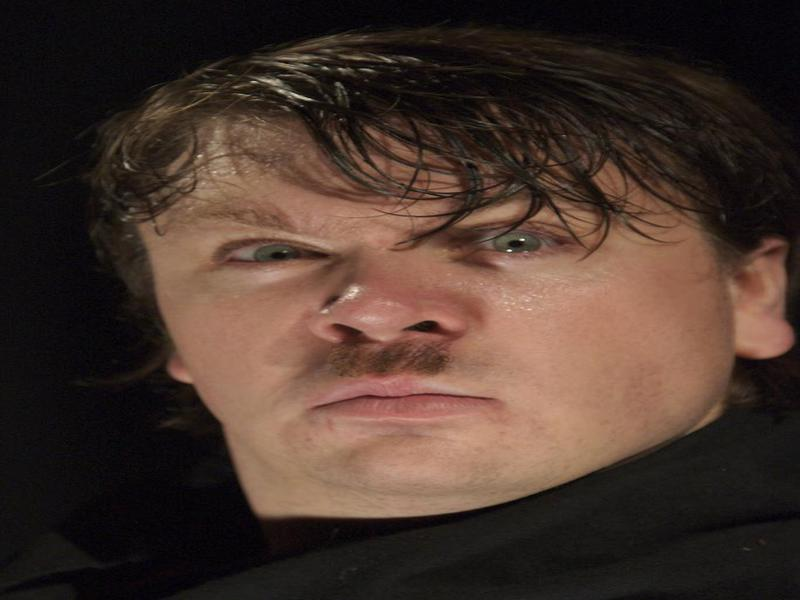person: (81, 20, 799, 598)
